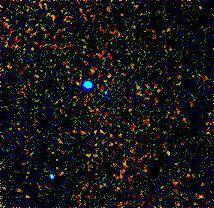star: (62, 67, 92, 97)
